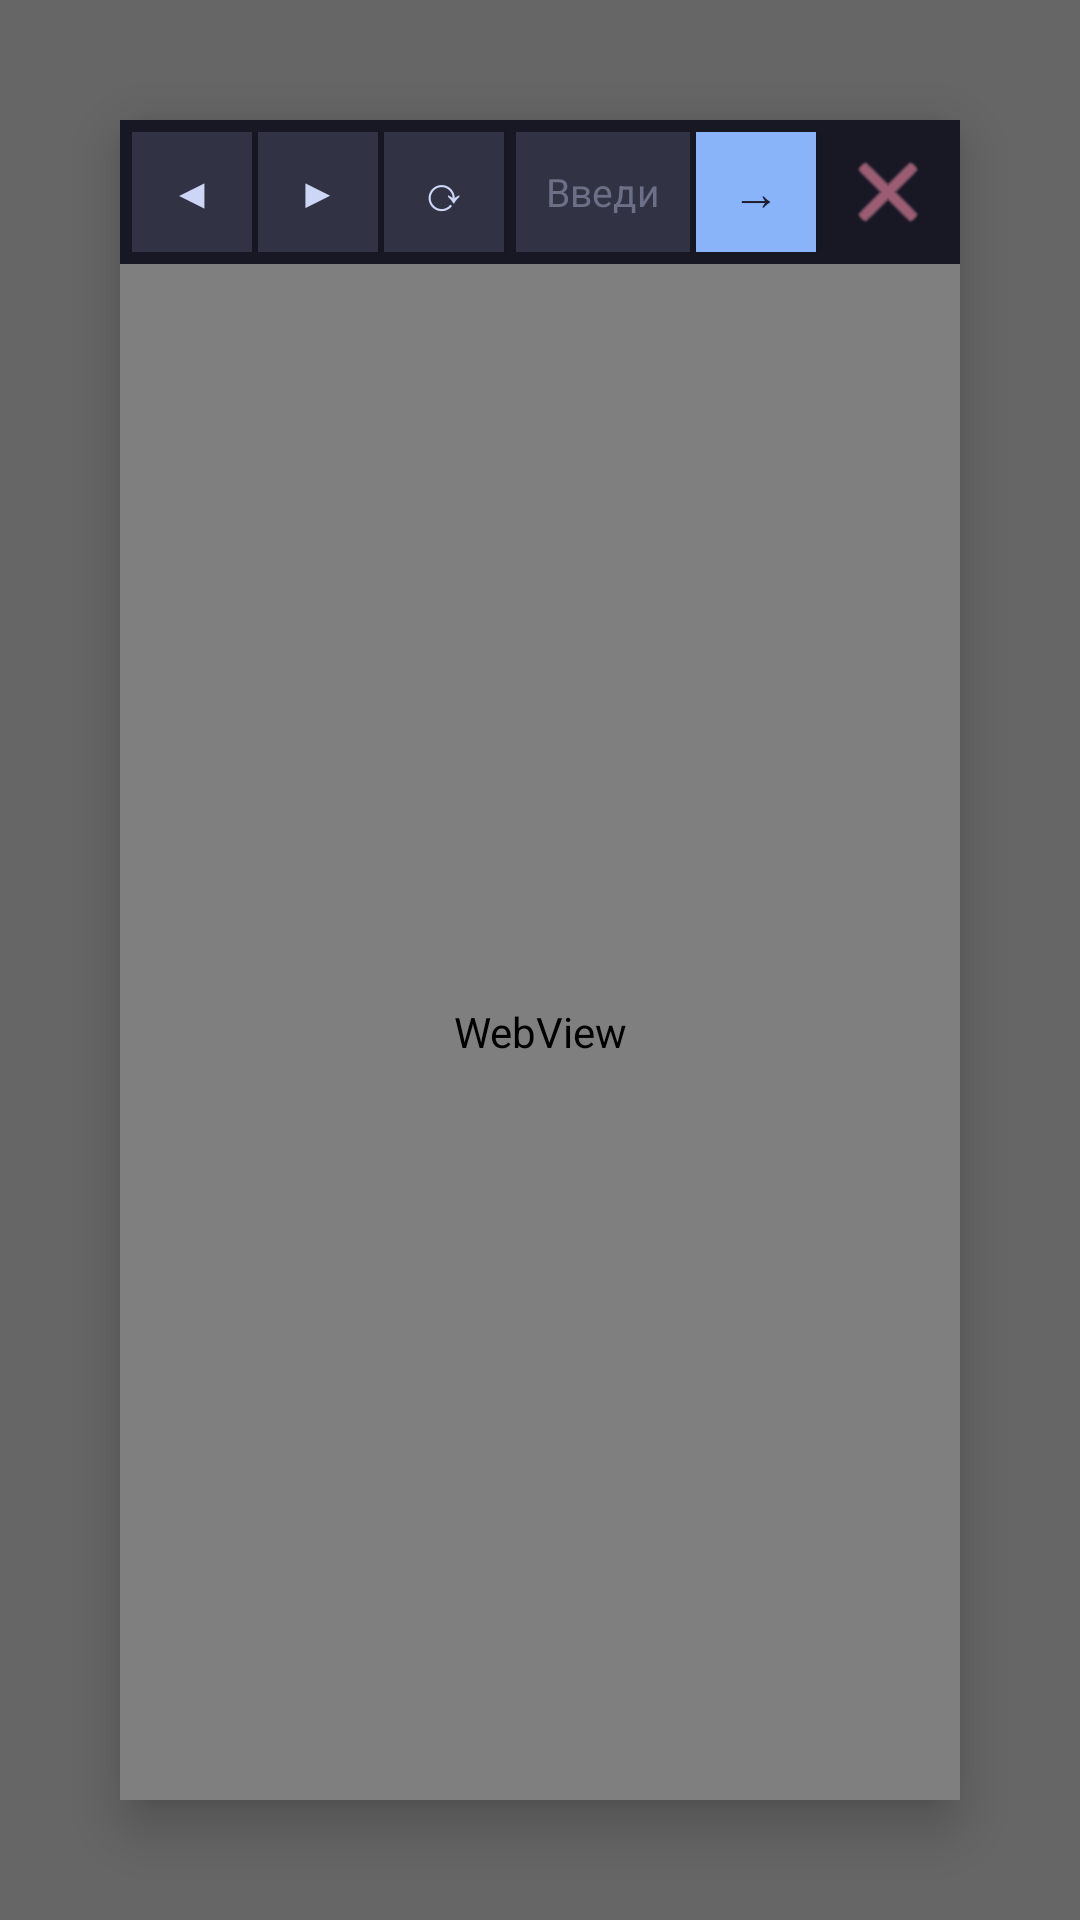

Locate icon controls on the screen. Image size 1080w x 1920h, boxes as (left=x1, top=y1, right=x2, bottom=y2).
Закрыть: (left=858, top=162, right=918, bottom=222)
